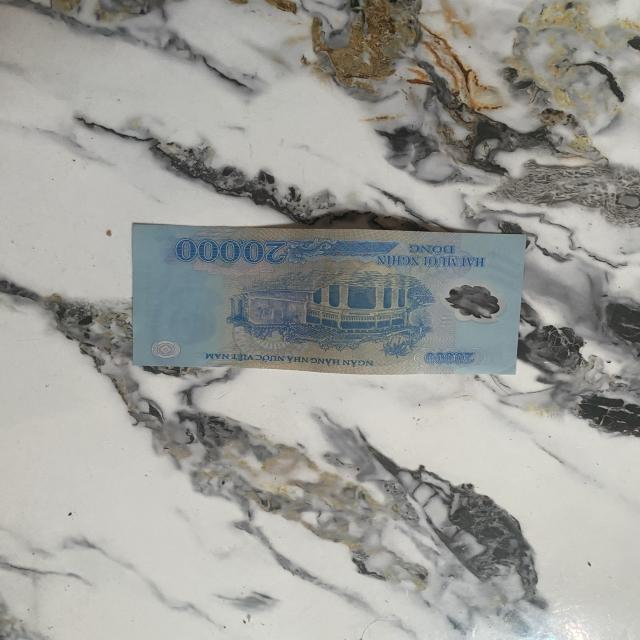20 000 VND: (123, 213, 538, 387)
